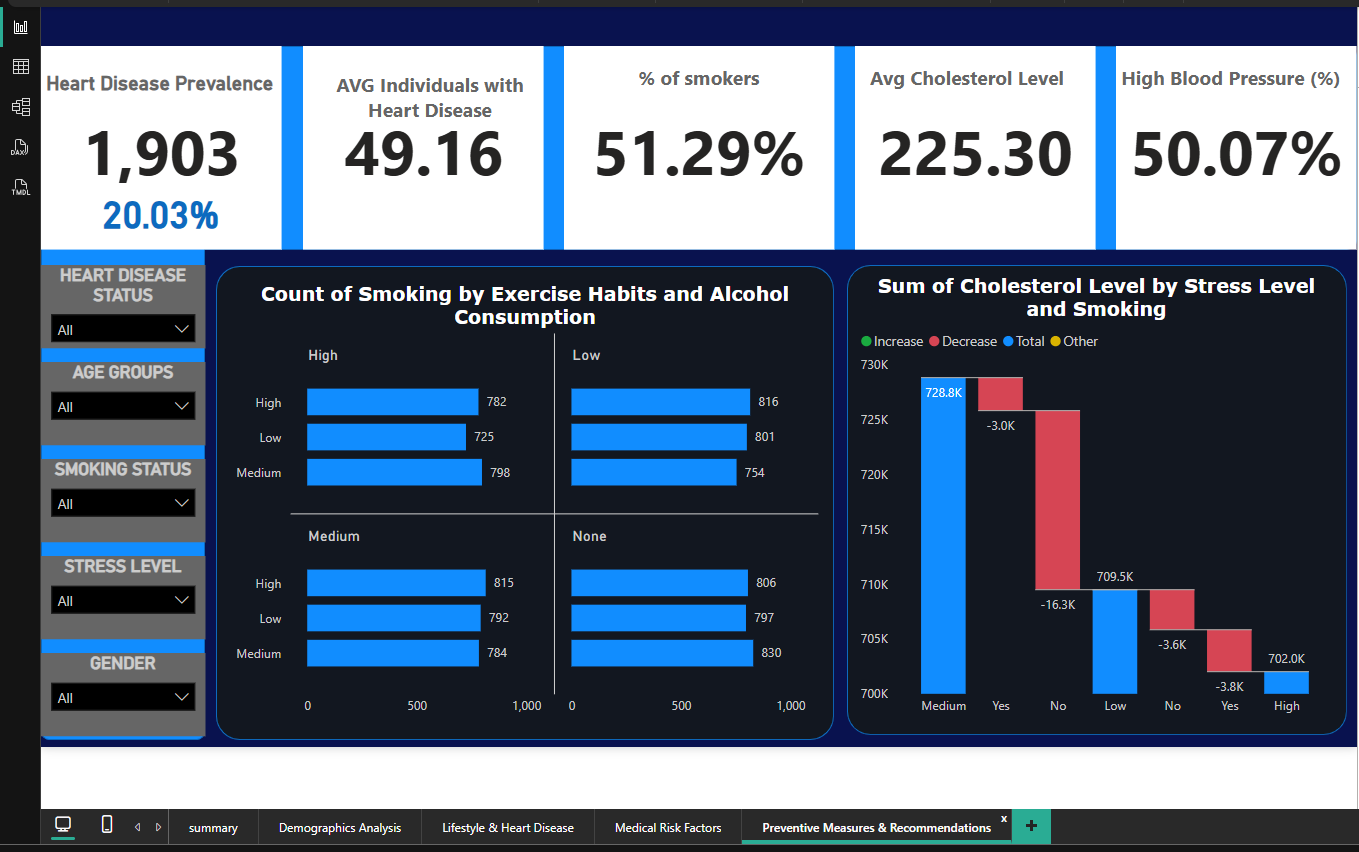

Layout of this report page (visuals, bound fields, positions):
{"tool":"powerbi","page":{"name":"Preventive Measures & Recommendations","canvas":[1280,720],"ordinal":4},"visuals":[{"type":"shape","box":[0,37.9,1280,198.4],"z":0},{"type":"shape","box":[0,37.9,159.5,675],"z":1000},{"type":"card","fields":{"Values":["Measures (2).Has Heart disease"]},"box":[0,37.9,234.4,198.4],"z":2000},{"type":"textbox","box":[0,57.4,233.4,72.9],"z":3000},{"type":"card","fields":{"Values":["Measures (2).Heart Disease Prevalence (%)"]},"box":[30.2,172.2,172.2,54.5],"z":4000},{"type":"card","fields":{"Values":["Measures (2).Average Age of Individuals with Heart Disease"]},"box":[254.3,37.9,234.4,198.4],"z":5000},{"type":"textbox","box":[261.6,57.4,233.4,86.6],"z":6000},{"type":"card","fields":{"Values":["Measures (2).% of smokers"]},"box":[508.7,37.9,262.6,198.4],"z":7000},{"type":"textbox","box":[523.3,50.6,233.4,73.9],"z":8000},{"type":"card","fields":{"Values":["Measures (2).Avg Cholesterole level"]},"box":[791.2,37.9,234.4,198.4],"z":9000},{"type":"textbox","box":[784,50.6,233.4,73.9],"z":10000},{"type":"card","fields":{"Values":["Measures (2).individuals with HBP (%)"]},"box":[1045.6,37.9,234.4,198.4],"z":11000},{"type":"textbox","box":[1045.6,50.6,234.4,61.3],"z":13000},{"type":"shape","box":[170.2,251.9,601.1,461],"z":14000},{"type":"slicer","title":"HEART DISEASE STATUS","fields":{"Values":["heart_disease.Heart Disease Status"]},"box":[0,250.9,159.5,80.7],"z":17000},{"type":"slicer","title":"AGE GROUPS","fields":{"Values":["heart_disease.Age Group"]},"box":[0,345.3,159.5,80.7],"z":18000},{"type":"slicer","title":"SMOKING STATUS","fields":{"Values":["heart_disease.Smoking"]},"box":[0,439.6,159.5,80.7],"z":19000},{"type":"slicer","title":"STRESS LEVEL","fields":{"Values":["heart_disease.Stress Level"]},"box":[0,534,159.5,80.7],"z":20000},{"type":"slicer","title":"GENDER","fields":{"Values":["heart_disease.Gender"]},"box":[0,628.3,159.5,80.7],"z":21000},{"type":"shape","box":[784,250.9,486.3,457.1],"z":22000},{"type":"barChart","fields":{"Category":["heart_disease.Exercise Habits"],"Rows":["heart_disease.Alcohol Consumption"],"Y":["CountNonNull(heart_disease.Smoking)"]},"box":[179.9,266.5,581.6,431.9],"z":29001},{"type":"waterfallChart","fields":{"Category":["heart_disease.Stress Level"],"Breakdown":["heart_disease.Smoking"],"Y":["Sum(heart_disease.Cholesterol Level)"]},"box":[791.7,258.7,469.8,439.6],"z":29002}]}

Visuals, with their boxes on the page's 1280x720 design canvas (x1, y1, x2, y2). These are canvas units, not pixel positions in the 1359x852 screenshot, which may show the page scaled, cropped or inside an application window:
shape: detection(0, 38, 1280, 236)
shape: detection(0, 38, 160, 713)
card - Measures (2).Has Heart disease: detection(0, 38, 234, 236)
textbox: detection(0, 57, 233, 130)
card - Measures (2).Heart Disease Prevalence (%): detection(30, 172, 202, 227)
card - Measures (2).Average Age of Individuals with Heart Disease: detection(254, 38, 489, 236)
textbox: detection(262, 57, 495, 144)
card - Measures (2).% of smokers: detection(509, 38, 771, 236)
textbox: detection(523, 51, 757, 124)
card - Measures (2).Avg Cholesterole level: detection(791, 38, 1026, 236)
textbox: detection(784, 51, 1017, 124)
card - Measures (2).individuals with HBP (%): detection(1046, 38, 1280, 236)
textbox: detection(1046, 51, 1280, 112)
shape: detection(170, 252, 771, 713)
"HEART DISEASE STATUS" slicer: detection(0, 251, 160, 332)
"AGE GROUPS" slicer: detection(0, 345, 160, 426)
"SMOKING STATUS" slicer: detection(0, 440, 160, 520)
"STRESS LEVEL" slicer: detection(0, 534, 160, 615)
"GENDER" slicer: detection(0, 628, 160, 709)
shape: detection(784, 251, 1270, 708)
barChart - heart_disease.Exercise Habits x heart_disease.Alcohol Consumption: detection(180, 266, 762, 698)
waterfallChart - heart_disease.Stress Level x heart_disease.Smoking: detection(792, 259, 1262, 698)
